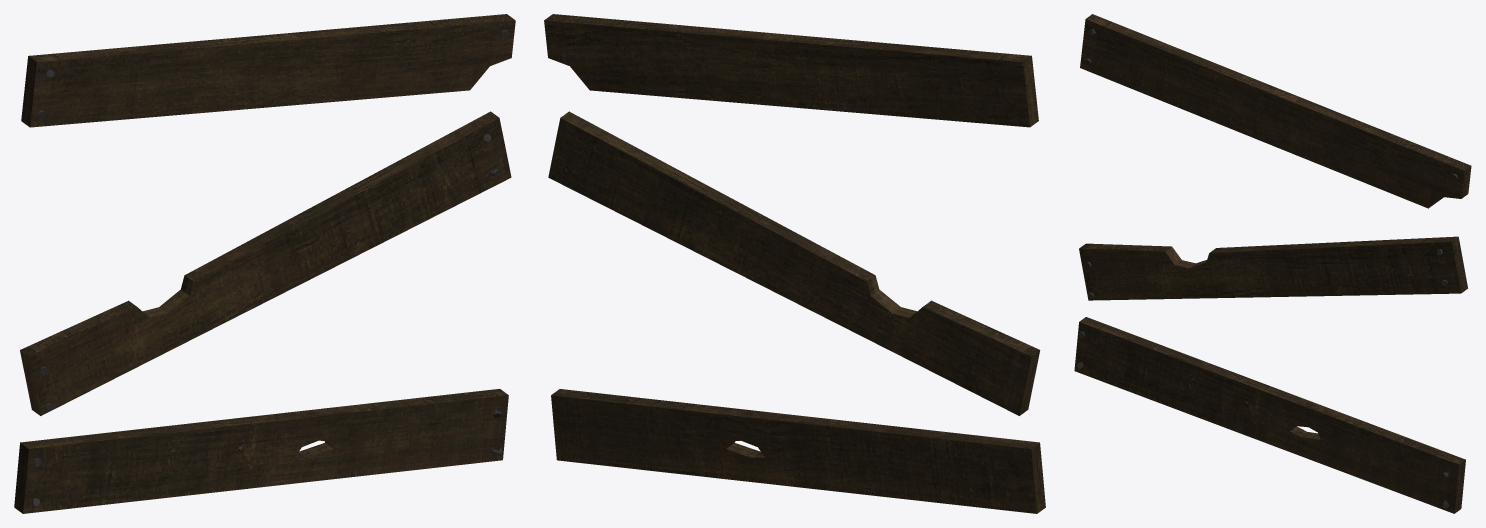
Rendered from boards.glb.
The picture shows the model from 3 angles, left to right: view 1: azimuth 30°, elevation 25°; view 2: azimuth 150°, elevation 25°; view 3: azimuth 330°, elevation 25°; orthographic projection. The views are drawn at different scales.
Parts seen in each view (by area): view 1: Plane.002, board_top, board_bottom; view 2: Plane.002, board_top, board_bottom; view 3: Plane.002, board_top, board_bottom.
Boxes of the visible parts, x1=… form: Plane.002: x1=14, y1=389, x2=508, y2=513; board_top: x1=21, y1=14, x2=515, y2=127; board_bottom: x1=20, y1=111, x2=511, y2=415; Plane.002: x1=551, y1=389, x2=1045, y2=513; board_top: x1=544, y1=14, x2=1038, y2=127; board_bottom: x1=548, y1=111, x2=1040, y2=415; Plane.002: x1=1074, y1=317, x2=1465, y2=513; board_top: x1=1080, y1=14, x2=1471, y2=208; board_bottom: x1=1079, y1=236, x2=1467, y2=300.
Size of the model in its own units: 1.61 by 1.6 by 0.0857.
Materials: 2 (2 with a texture image).
